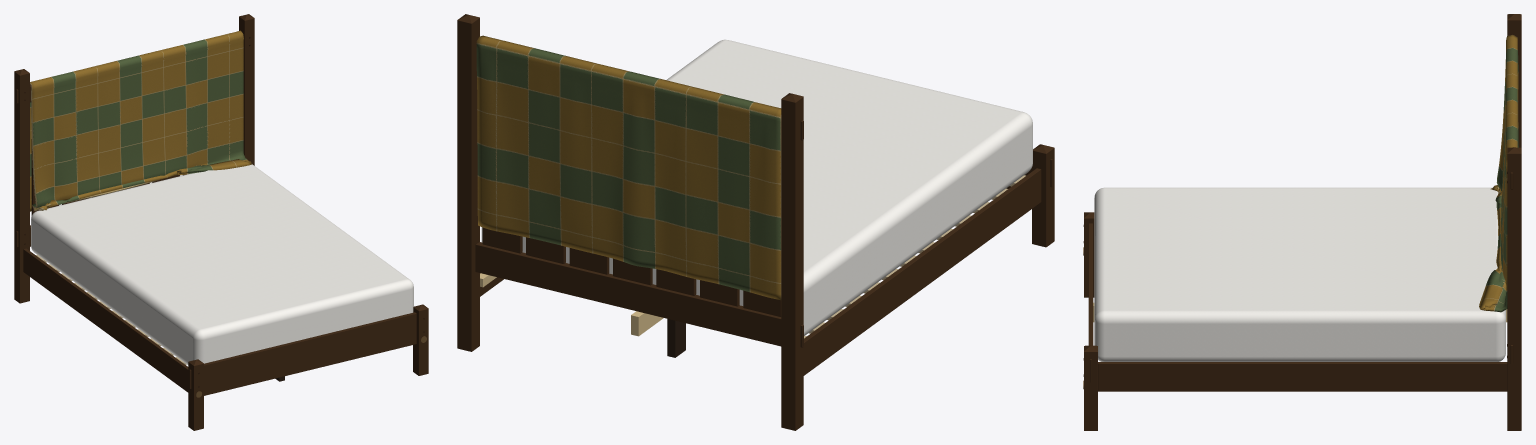
The model's file is bed-frame-quilt.glb.
3 views of the same model, side by side, from view 1: azimuth 30°, elevation 25°; view 2: azimuth 150°, elevation 25°; view 3: azimuth 270°, elevation 25° (orthographic). The views are drawn at different scales.
Visible parts, largest first — view 1: Bed mattress, Bed headboard cover, Bed foot rail, Bed side rail L, Bed headboard post L, Bed headboard post R, Bed foot leg L, Bed foot leg R; view 2: Bed headboard cover, Bed mattress, Bed headboard rail bottom, Bed side rail L, Bed headboard post L, Bed headboard post R, Bed foot leg L, Bed headboard slat 5, Bed headboard slat 6, Bed headboard slat 3, Bed headboard slat 2, Bed headboard slat 7 (+3 smaller); view 3: Bed mattress, Bed side rail R, Bed headboard post R, Bed headboard cover, Bed foot leg R, Bed foot rail, Bed headboard post L, Bed foot leg L.
Boxes of the visible parts, x1=… form: Bed mattress: x1=31, y1=164, x2=413, y2=364; Bed headboard cover: x1=30, y1=30, x2=252, y2=211; Bed foot rail: x1=204, y1=312, x2=416, y2=395; Bed side rail L: x1=23, y1=248, x2=188, y2=392; Bed headboard post L: x1=14, y1=72, x2=29, y2=303; Bed headboard post R: x1=239, y1=17, x2=254, y2=165; Bed foot leg L: x1=188, y1=362, x2=203, y2=430; Bed foot leg R: x1=413, y1=307, x2=428, y2=375; Bed headboard cover: x1=476, y1=35, x2=781, y2=300; Bed mattress: x1=481, y1=39, x2=1032, y2=335; Bed headboard rail bottom: x1=475, y1=242, x2=781, y2=346; Bed side rail L: x1=803, y1=168, x2=1041, y2=375; Bed headboard post L: x1=781, y1=97, x2=803, y2=430; Bed headboard post R: x1=457, y1=18, x2=479, y2=351; Bed foot leg L: x1=1032, y1=148, x2=1054, y2=247; Bed headboard slat 5: x1=569, y1=248, x2=609, y2=274; Bed headboard slat 6: x1=526, y1=237, x2=565, y2=263; Bed headboard slat 3: x1=656, y1=269, x2=696, y2=295; Bed headboard slat 2: x1=700, y1=280, x2=739, y2=306; Bed headboard slat 7: x1=482, y1=227, x2=522, y2=253; Bed mattress: x1=1094, y1=187, x2=1505, y2=361; Bed side rail R: x1=1098, y1=362, x2=1507, y2=391; Bed headboard post R: x1=1507, y1=153, x2=1521, y2=430; Bed headboard cover: x1=1479, y1=35, x2=1518, y2=312; Bed foot leg R: x1=1084, y1=352, x2=1097, y2=430; Bed foot rail: x1=1088, y1=223, x2=1093, y2=345; Bed headboard post L: x1=1507, y1=20, x2=1521, y2=147; Bed foot leg L: x1=1084, y1=218, x2=1094, y2=297.
Bounding box in the file's own units: 1.65 × 1.53 × 2.16.
10 materials, 2 textured.
